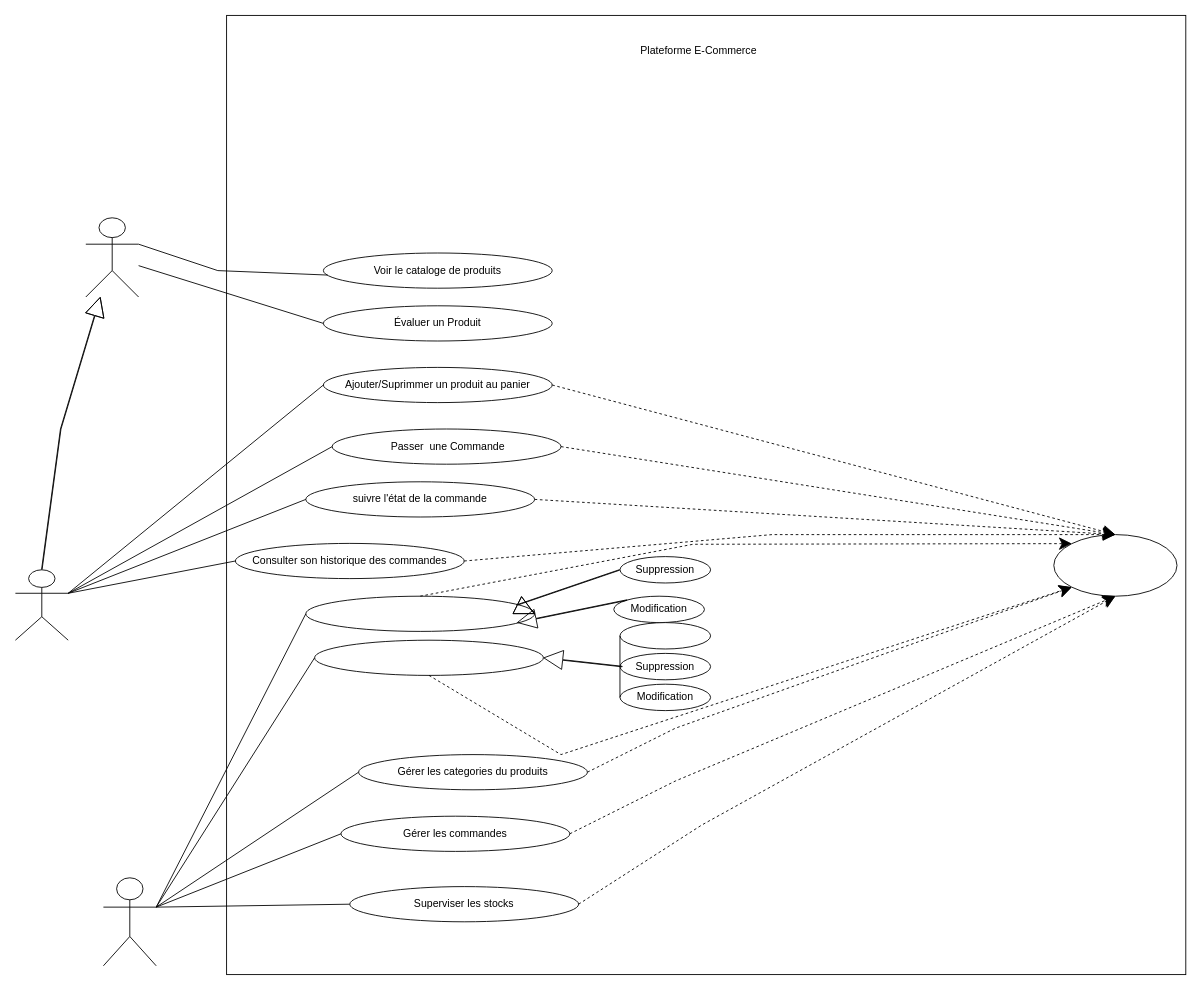
Some shapes in this 1201 by 1000 pixel diagram are drawn without their labels. Here are the shapes that lost their labels. From the top down, the centre of each, then its label:
point 112,257: visiteur
point 1115,565: Connexion
point 41,604: Client
point 420,613: Gérer les utilisateurs
point 665,635: Ajout
point 428,657: Gérer les produits
point 129,921: Admin
